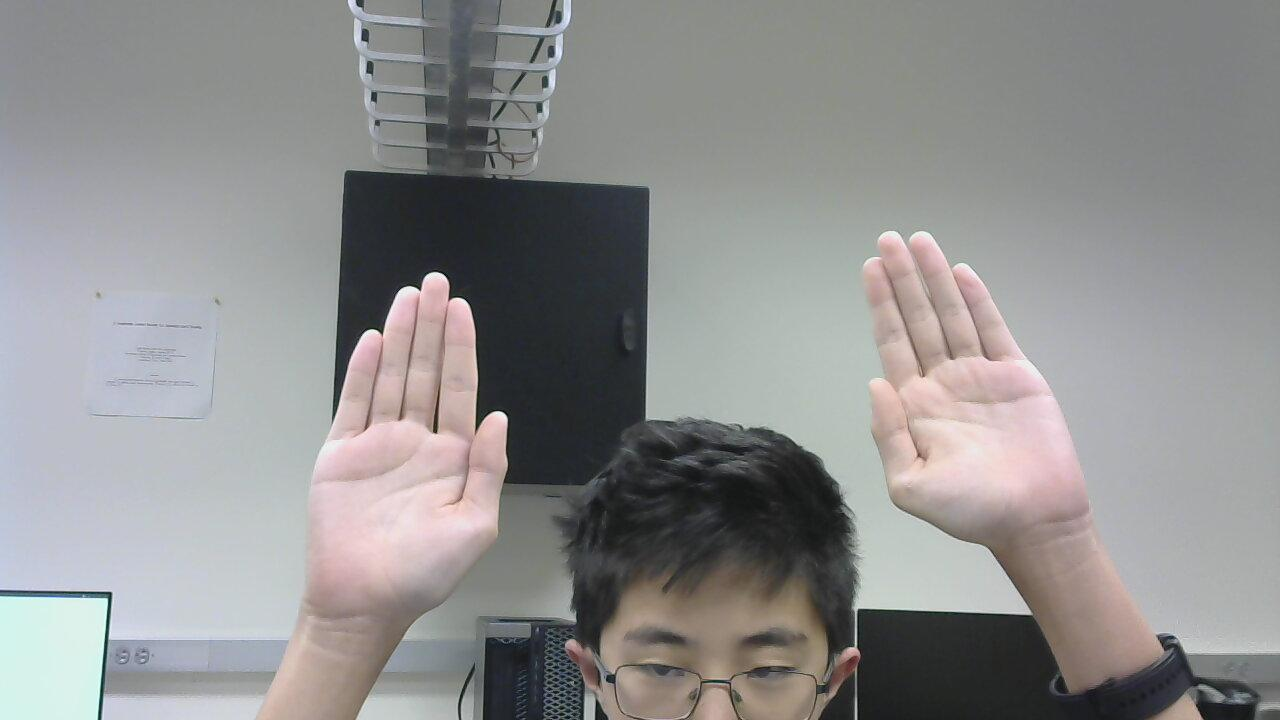hands: (850, 215, 1111, 554), (296, 265, 527, 625)
